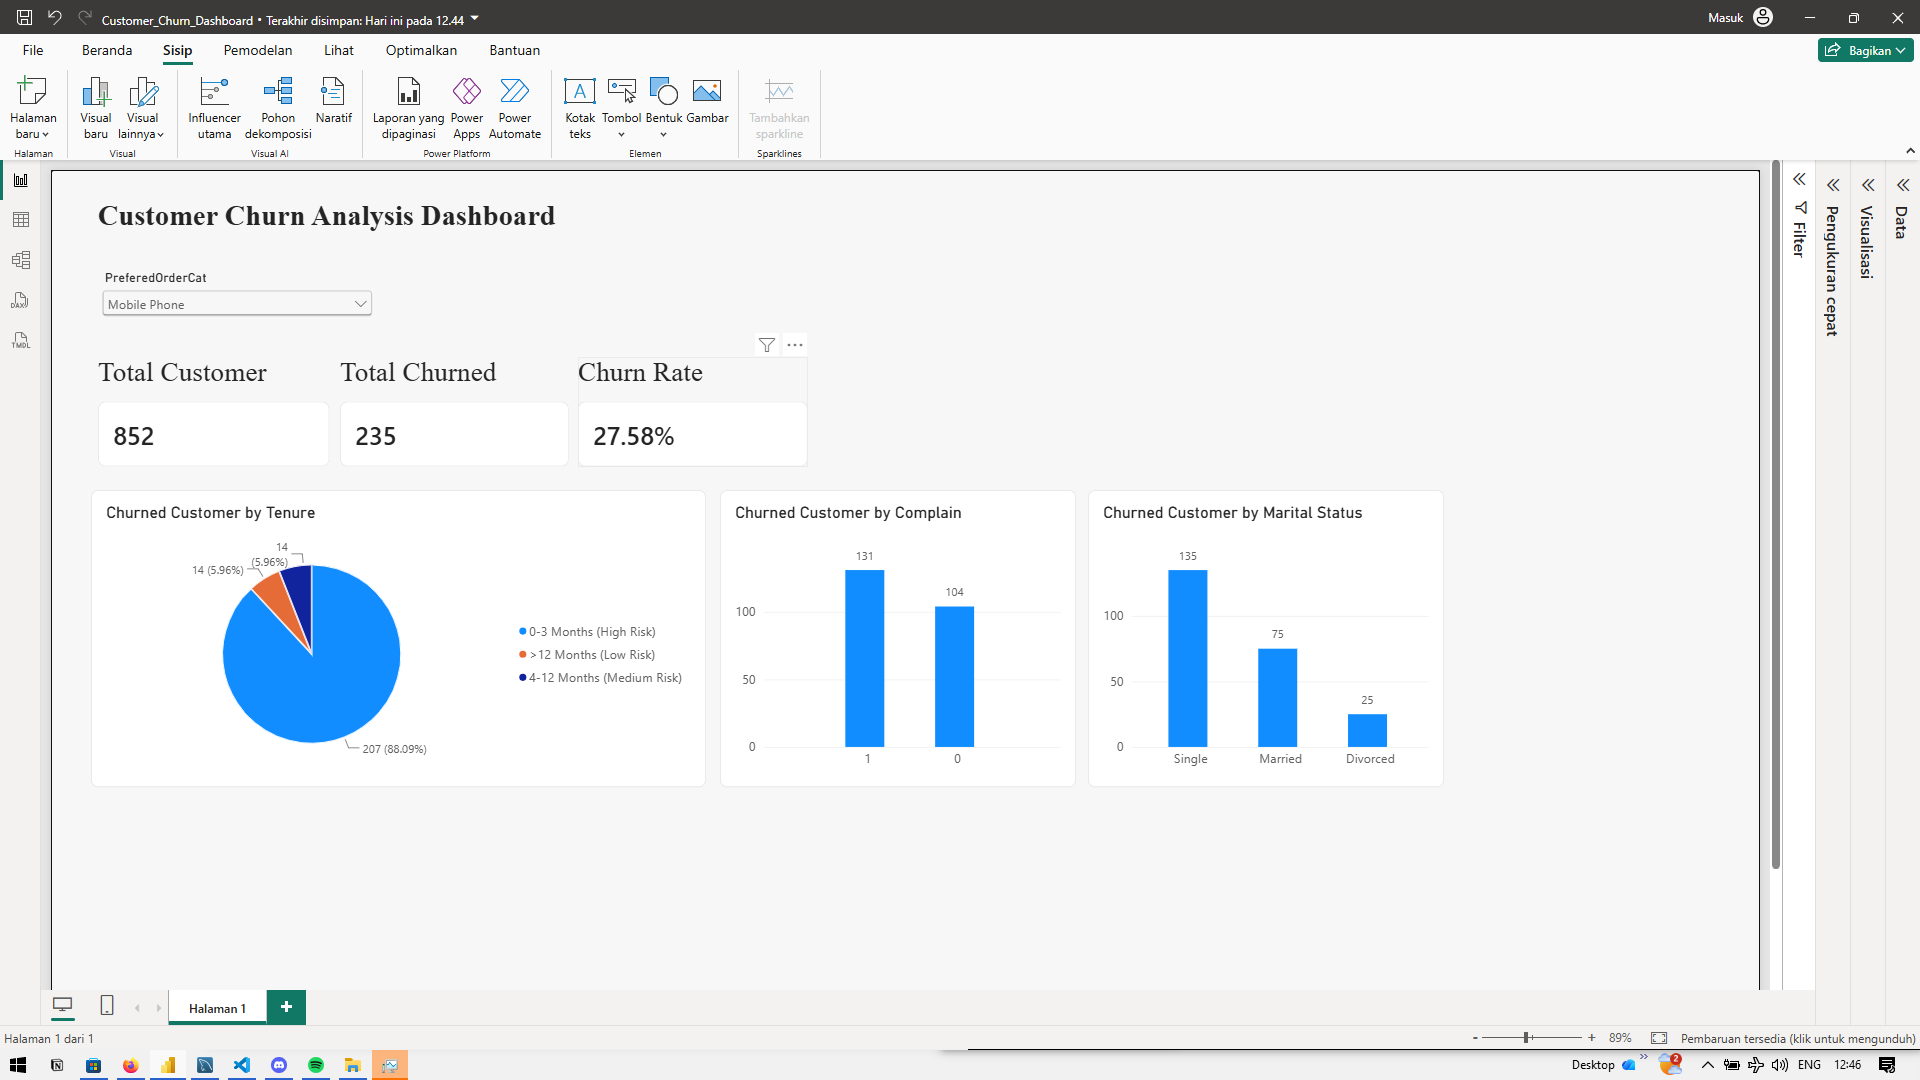

Layout of this report page (visuals, bound fields, positions):
{"tool":"powerbi","page":{"name":"Halaman 1","canvas":[1920,1080],"ordinal":0},"visuals":[{"type":"cardVisual","title":"Total Customer","fields":{"Data":["vw_customer_churn.Total Customer"]},"box":[52.8,210.1,260.7,123.6],"z":0},{"type":"cardVisual","title":"Total Churned","fields":{"Data":["Sum(vw_customer_churn.Churn)"]},"box":[324.7,210.1,257.3,123.6],"z":1},{"type":"cardVisual","title":"Churn Rate","fields":{"Data":["Avg(vw_customer_churn.Churn)"]},"box":[592.1,210.1,258.4,123.6],"z":2},{"type":"pieChart","title":"Churned Customer by Tenure","fields":{"Category":["vw_customer_churn.Tenure_Group"],"Y":["CountNonNull(vw_customer_churn.Churn_Label)"]},"box":[44.9,359.6,691,333.7],"z":3},{"type":"lineClusteredColumnComboChart","title":"Churned Customer by Complain","fields":{"Category":["vw_customer_churn.Complain"],"Y":["CountNonNull(vw_customer_churn.Churn_Label)"]},"box":[751.7,359.6,400,333.7],"z":4},{"type":"lineClusteredColumnComboChart","title":"Churned Customer by Marital Status","fields":{"Category":["vw_customer_churn.MaritalStatus"],"Y":["CountNonNull(vw_customer_churn.Churn_Label)"]},"box":[1165.2,359.6,400,333.7],"z":5},{"type":"slicer","fields":{"Values":["vw_customer_churn.PreferedOrderCat"]},"box":[52.8,112.4,313.5,66.3],"z":6},{"type":"textbox","box":[52.8,32.6,560.7,103.4],"z":7}]}

Visuals, with their boxes on the page's 1920x1080 design canvas (x1, y1, x2, y2). These are canvas units, not pixel positions in the 1920x1080 screenshot, which may show the page scaled, cropped or inside an application window:
"Total Customer" cardVisual: (53,210,314,334)
"Total Churned" cardVisual: (325,210,582,334)
"Churn Rate" cardVisual: (592,210,850,334)
"Churned Customer by Tenure" pieChart: (45,360,736,693)
"Churned Customer by Complain" lineClusteredColumnComboChart: (752,360,1152,693)
"Churned Customer by Marital Status" lineClusteredColumnComboChart: (1165,360,1565,693)
slicer - vw_customer_churn.PreferedOrderCat: (53,112,366,179)
textbox: (53,33,614,136)
